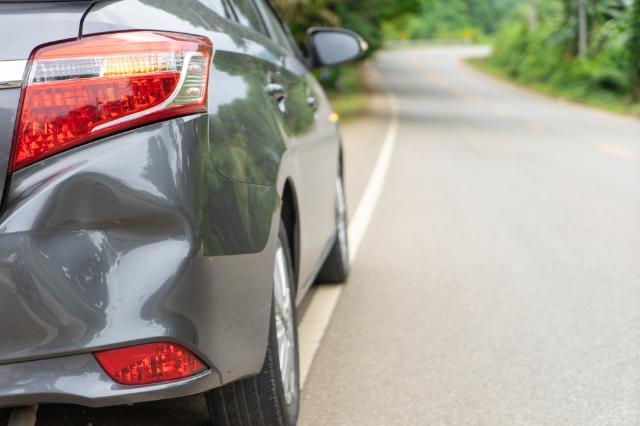dent: (32, 173, 191, 320)
